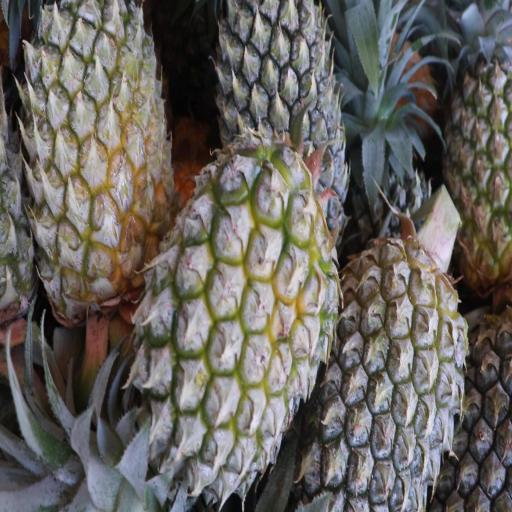------------------------------: (140, 156, 324, 494), (27, 0, 168, 316), (440, 40, 512, 284)
